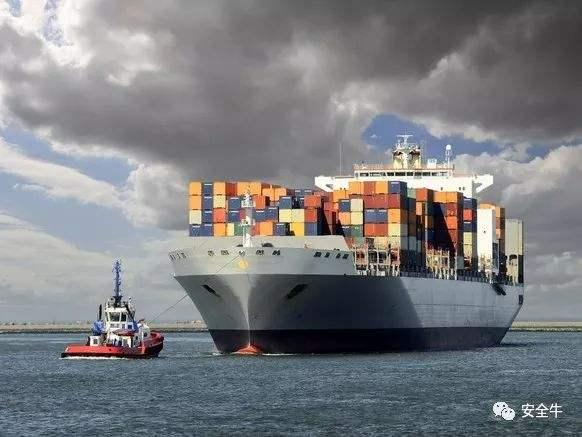Cargoship: (165, 120, 528, 352)
otherboat: (55, 246, 186, 368)
